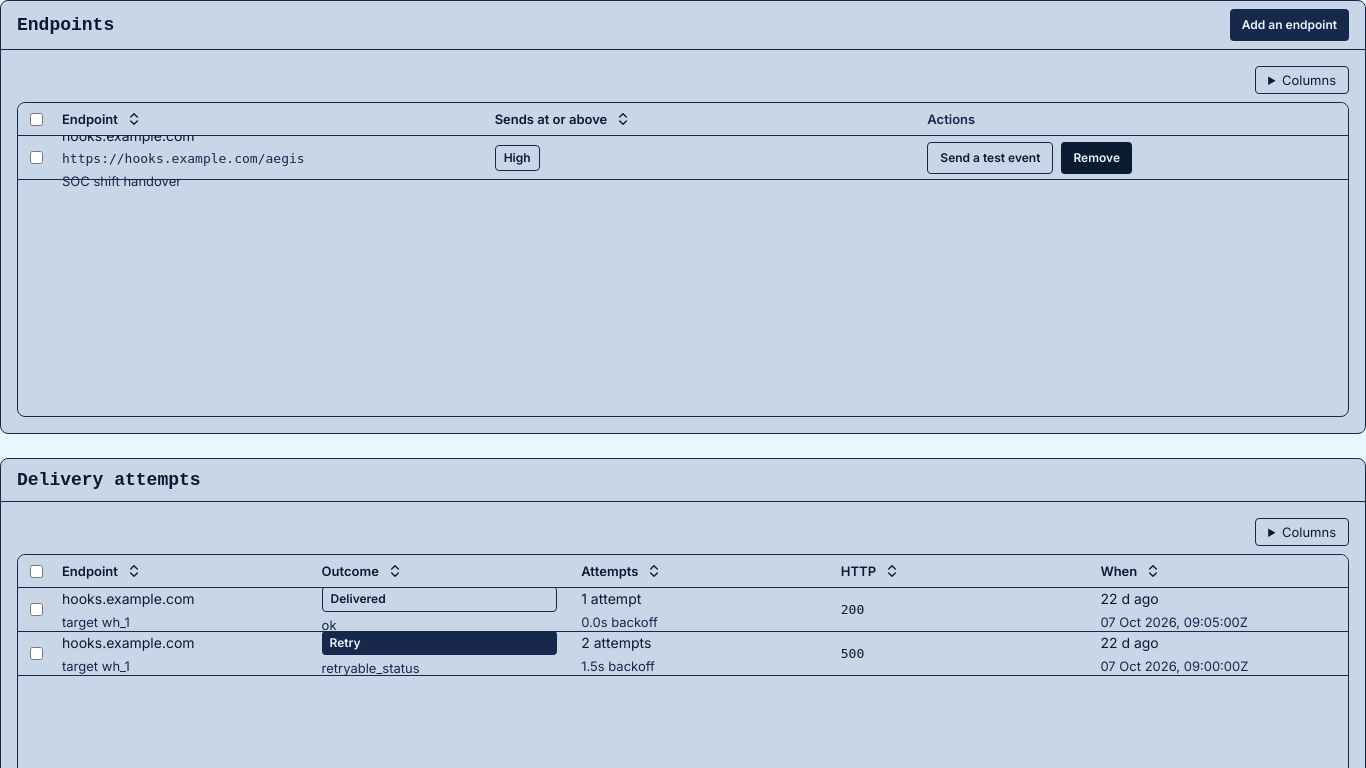
Test: ConnectorsPanel › sends one signed test event to the endpoint, and reports what came back
This screenshot has width=1366, height=768.
Click the button "Send a test event".
click(990, 158)  # box left=927, top=142, right=1053, bottom=174
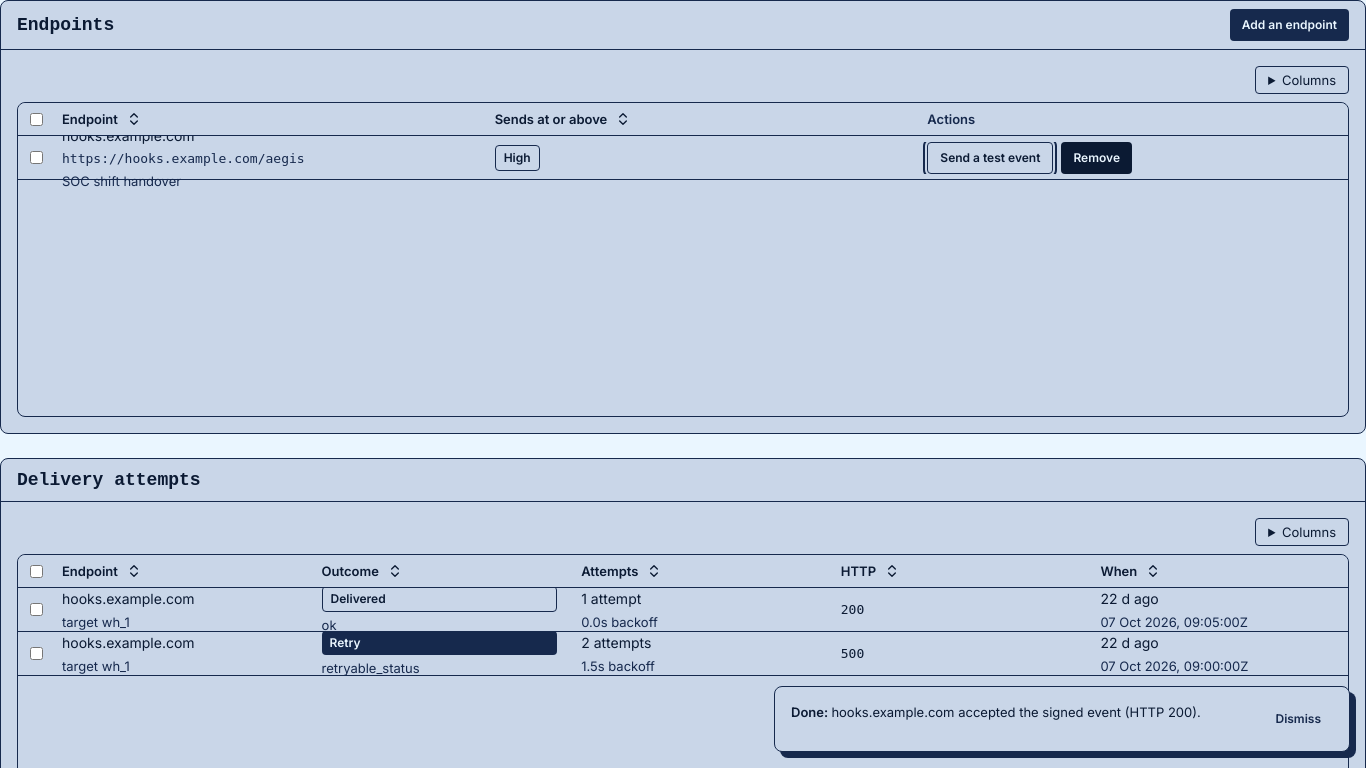
Now the text "hooks.example.com accepted the signed event" is shown, box left=831, top=704, right=1201, bottom=720
